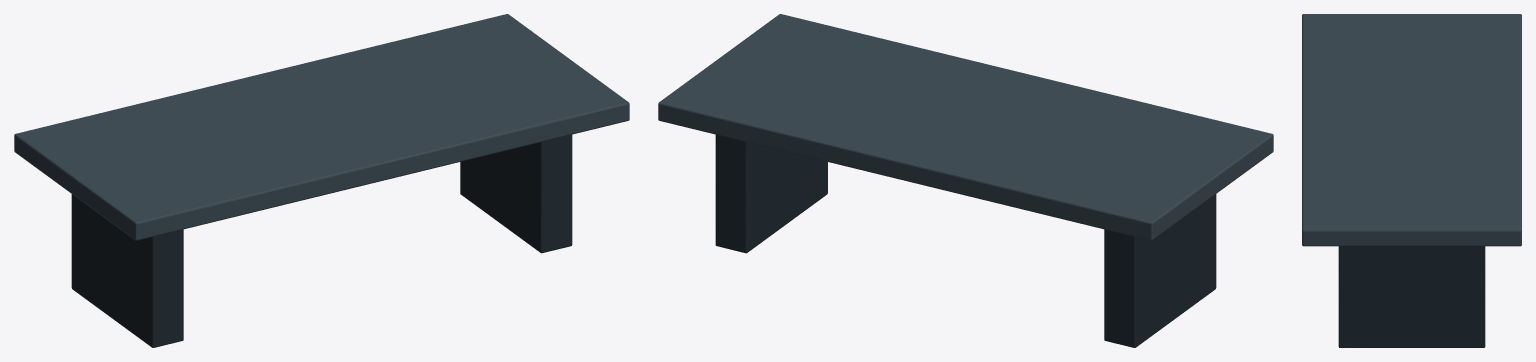
The model's file is CC_S16_P2_Expansion_Publishing_MeetingTable_LOD0.fbx.
The picture shows the model from 3 angles, left to right: view 1: azimuth 30°, elevation 25°; view 2: azimuth 150°, elevation 25°; view 3: azimuth 270°, elevation 25°; orthographic projection. The views are drawn at different scales.
Visible parts, largest first — view 1: CC_S16_P2_Expansion_Publishing_MeetingTable_LOD0_Top, CC_S16_P2_Expansion_Publishing_MeetingTable_LOD0_Leg, CC_S16_P2_Expansion_Publishing_MeetingTable_LOD0_Leg.001; view 2: CC_S16_P2_Expansion_Publishing_MeetingTable_LOD0_Top, CC_S16_P2_Expansion_Publishing_MeetingTable_LOD0_Leg, CC_S16_P2_Expansion_Publishing_MeetingTable_LOD0_Leg.001; view 3: CC_S16_P2_Expansion_Publishing_MeetingTable_LOD0_Top, CC_S16_P2_Expansion_Publishing_MeetingTable_LOD0_Leg.001, CC_S16_P2_Expansion_Publishing_MeetingTable_LOD0_Leg.001_LOD.
Boxes of the visible parts, <box> form: CC_S16_P2_Expansion_Publishing_MeetingTable_LOD0_Top: <box>14,14,629,240</box>; CC_S16_P2_Expansion_Publishing_MeetingTable_LOD0_Leg: <box>71,194,183,347</box>; CC_S16_P2_Expansion_Publishing_MeetingTable_LOD0_Leg.001: <box>460,134,572,252</box>; CC_S16_P2_Expansion_Publishing_MeetingTable_LOD0_Top: <box>658,14,1273,240</box>; CC_S16_P2_Expansion_Publishing_MeetingTable_LOD0_Leg: <box>1104,194,1216,347</box>; CC_S16_P2_Expansion_Publishing_MeetingTable_LOD0_Leg.001: <box>715,134,827,252</box>; CC_S16_P2_Expansion_Publishing_MeetingTable_LOD0_Top: <box>1302,14,1521,246</box>; CC_S16_P2_Expansion_Publishing_MeetingTable_LOD0_Leg.001: <box>1338,246,1485,347</box>; CC_S16_P2_Expansion_Publishing_MeetingTable_LOD0_Leg.001_LOD: <box>1339,246,1485,347</box>.
Size of what is drawn, in the model's own units: 2.8 by 0.81 by 1.2.
